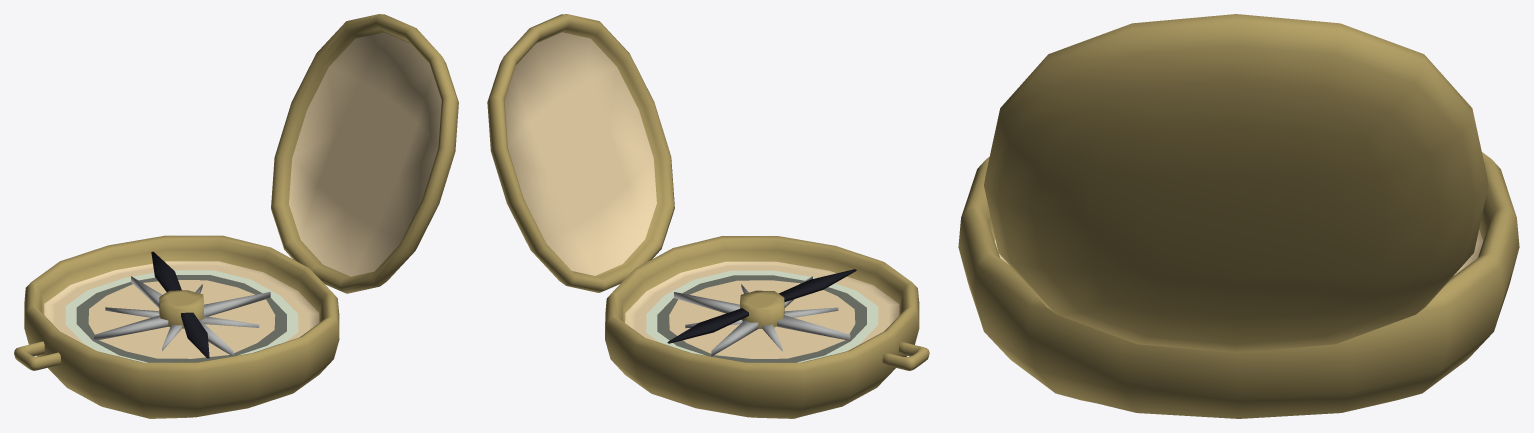
The model's file is Brujula.fbx.
The picture shows the model from 3 angles, left to right: view 1: azimuth 30°, elevation 25°; view 2: azimuth 150°, elevation 25°; view 3: azimuth 270°, elevation 25°; orthographic projection. The views are drawn at different scales.
Parts seen in each view (by area): view 1: Cube.034, Cube.037, Plane.029, Cube.036, Cube.035, Cube.038; view 2: Cube.034, Cube.037, Plane.029, Cube.036, Cube.035, Cube.038; view 3: Cube.037, Cube.034.
Boxes of the visible parts, x1=… form: Cube.034: x1=24, y1=235, x2=339, y2=418; Cube.037: x1=271, y1=14, x2=458, y2=293; Plane.029: x1=94, y1=276, x2=270, y2=356; Cube.036: x1=151, y1=251, x2=209, y2=358; Cube.035: x1=159, y1=290, x2=204, y2=328; Cube.038: x1=14, y1=341, x2=61, y2=370; Cube.034: x1=605, y1=236, x2=919, y2=418; Cube.037: x1=487, y1=14, x2=674, y2=292; Plane.029: x1=674, y1=276, x2=850, y2=356; Cube.036: x1=667, y1=269, x2=856, y2=343; Cube.035: x1=740, y1=290, x2=784, y2=328; Cube.038: x1=882, y1=341, x2=929, y2=370; Cube.037: x1=984, y1=14, x2=1488, y2=352; Cube.034: x1=958, y1=152, x2=1519, y2=418.
Size of the model in its own units: 56.46 by 39.72 by 37.62.
